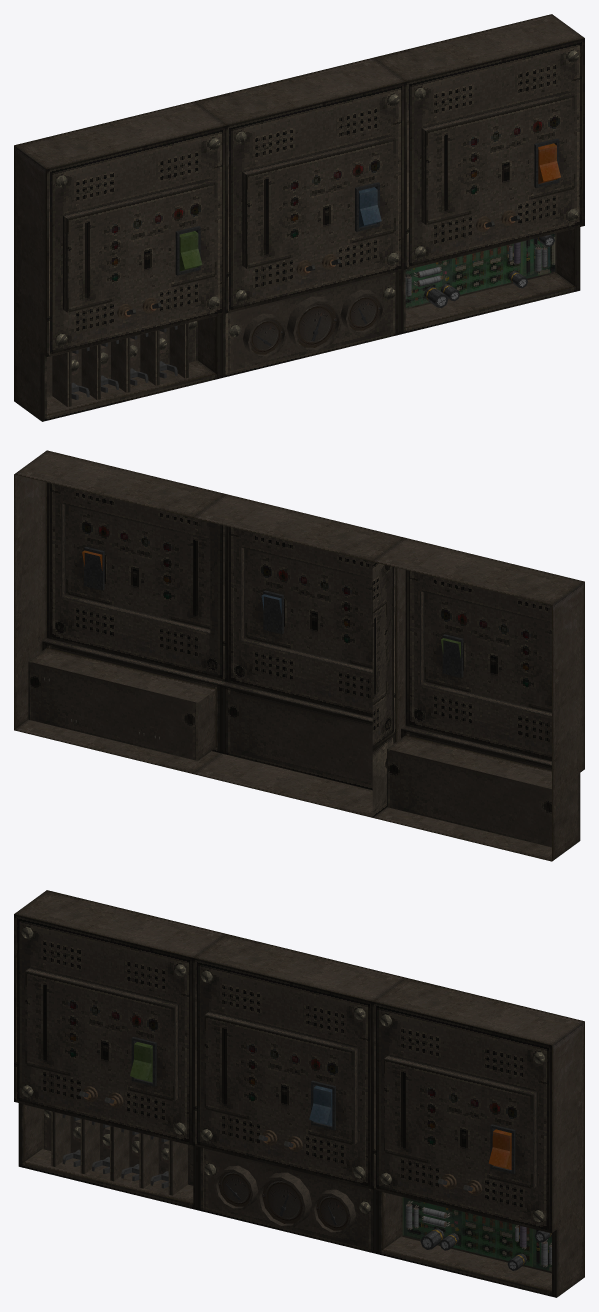
Rendered from panel_etx_2_2.glb.
The picture shows the model from 3 angles, top to bottom: view 1: azimuth 30°, elevation 25°; view 2: azimuth 150°, elevation 25°; view 3: azimuth 330°, elevation 25°; orthographic projection.
Visible parts, largest first — view 1: panel_etx_2_2; view 2: panel_etx_2_2; view 3: panel_etx_2_2.
Part boxes in pixels (x1,y1,x2,y2): panel_etx_2_2: (14, 14, 584, 421); panel_etx_2_2: (14, 450, 584, 861); panel_etx_2_2: (14, 890, 584, 1297).
Bounding box in the file's own units: 1.32 × 0.6 × 0.1866.
2 materials, 2 textured.
